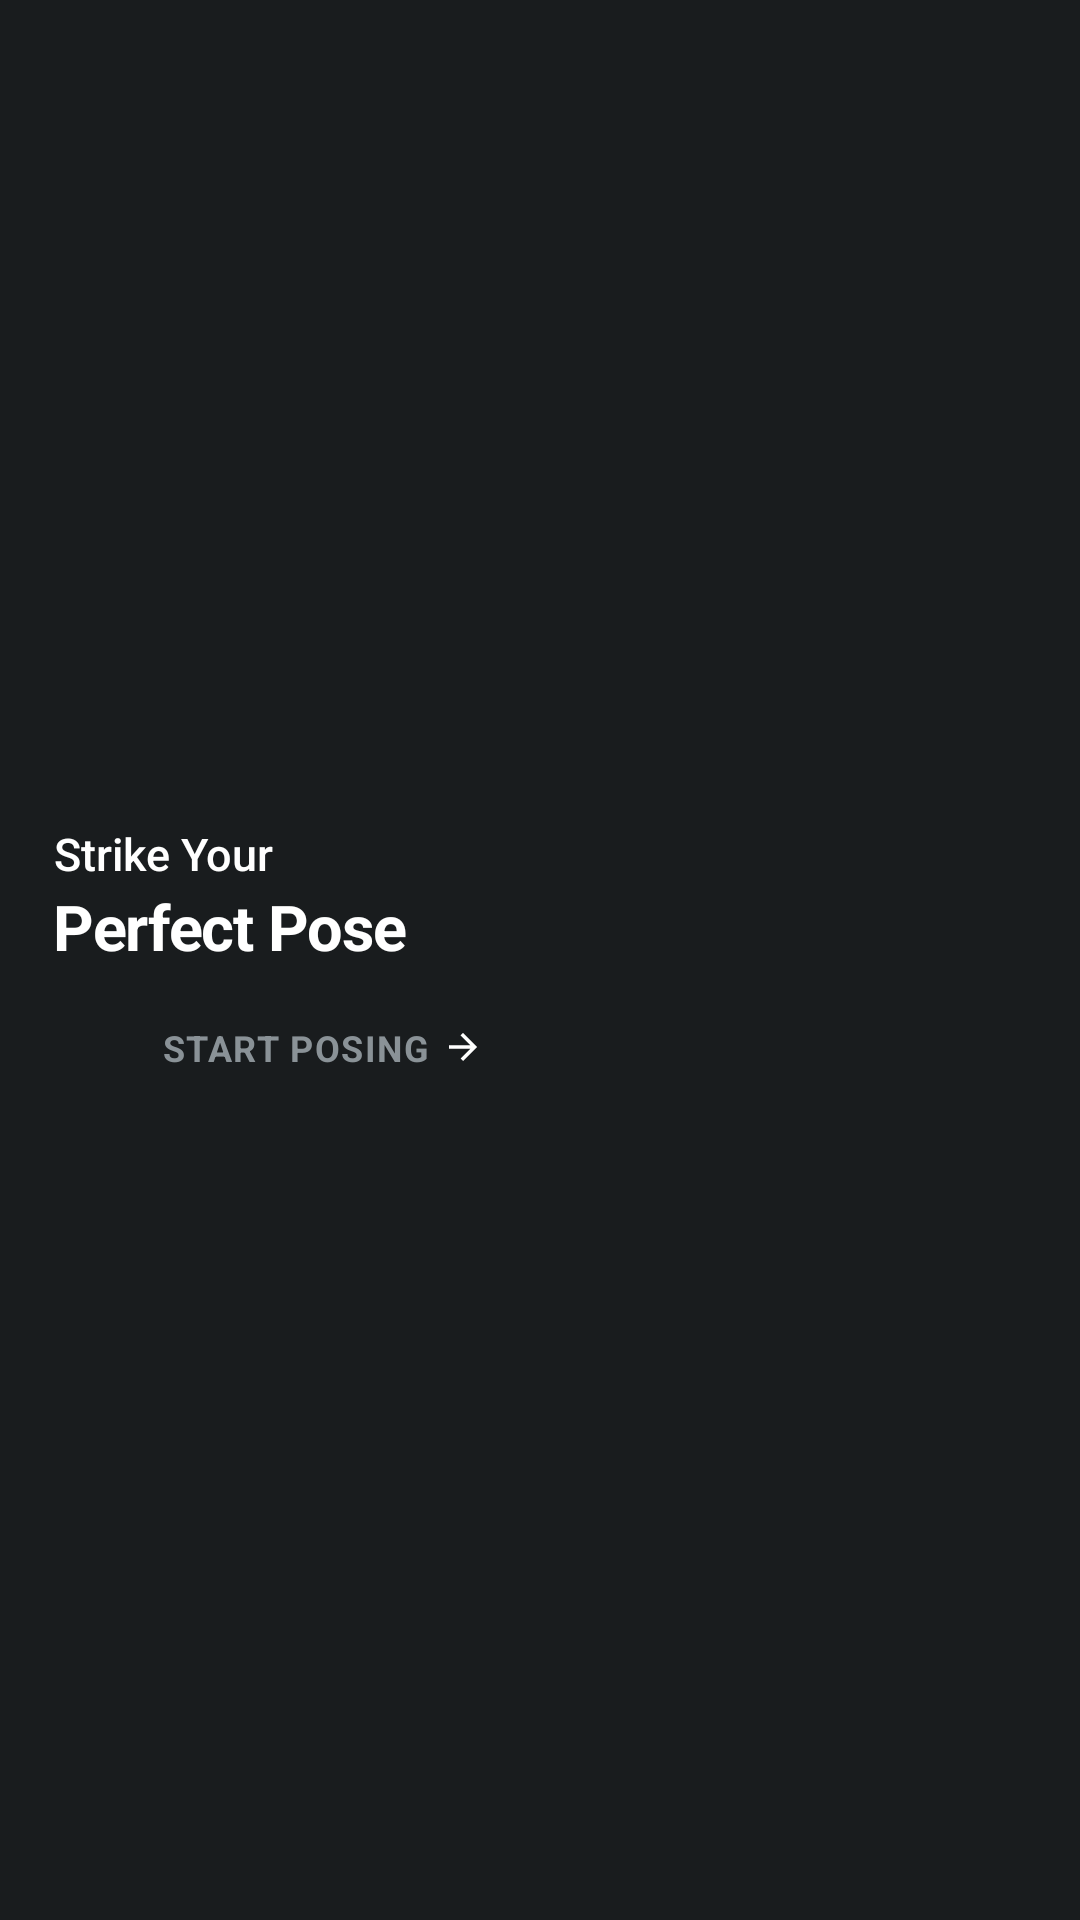

Icon bounding boxes for this 1080px x 1920px phone screenshot, format (x1, y1, x2, y2):
arrow forward: (449, 1033, 477, 1061)
